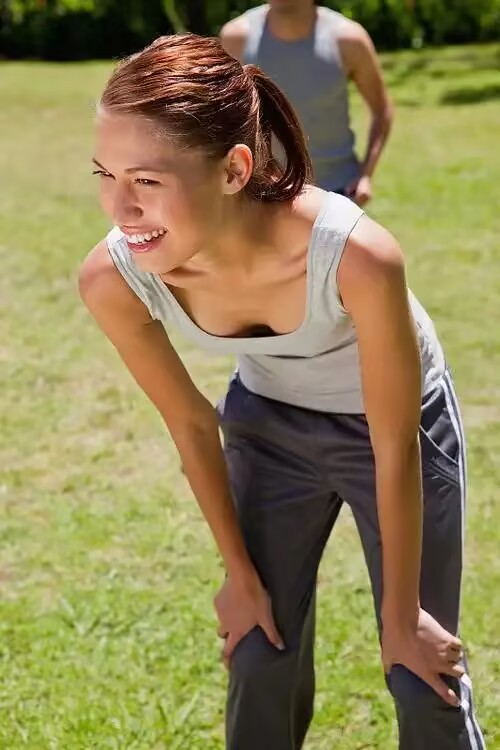bending: (64, 18, 488, 746)
